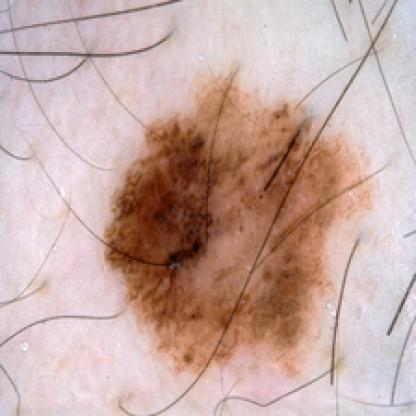malignant: (108, 76, 373, 347)
